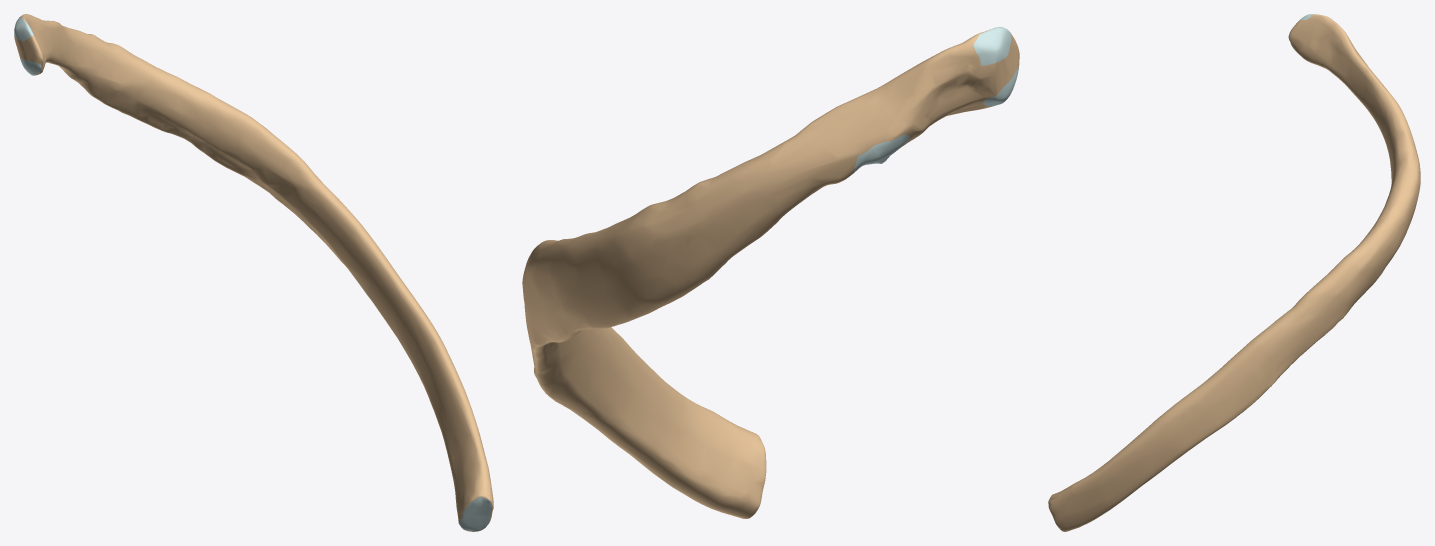
Rendered from 9th_rib.l_Generated_Mesh_From_X3D.888.glb.
3 views of the same model, side by side, from view 1: azimuth 30°, elevation 25°; view 2: azimuth 150°, elevation 25°; view 3: azimuth 270°, elevation 25° (orthographic). The views are drawn at different scales.
Visible parts, largest first — view 1: 9th_rib.l_Generated_Mesh_From_X3D.888; view 2: 9th_rib.l_Generated_Mesh_From_X3D.888; view 3: 9th_rib.l_Generated_Mesh_From_X3D.888.
Boxes of the visible parts, box(x1,y1,x2,y2) form: 9th_rib.l_Generated_Mesh_From_X3D.888: box(14, 14, 493, 531); 9th_rib.l_Generated_Mesh_From_X3D.888: box(522, 27, 1019, 518); 9th_rib.l_Generated_Mesh_From_X3D.888: box(1048, 14, 1420, 531).
Size of the model in its own units: 0.1152 by 0.1551 by 0.1324.
